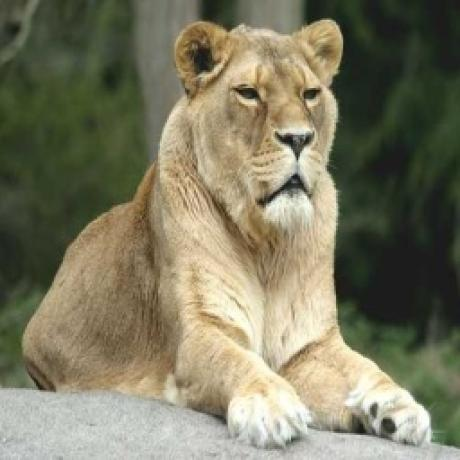Lion: (15, 17, 435, 447)
